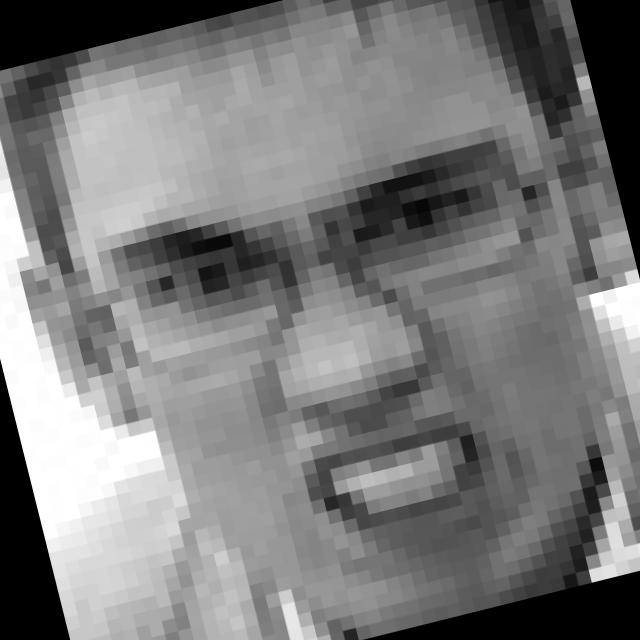angry: (95, 129, 618, 616)
